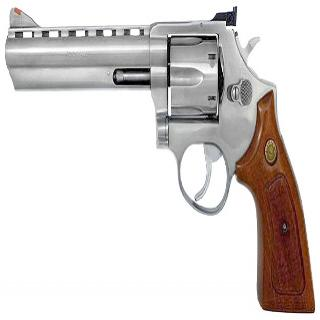gun: (4, 7, 312, 300)
